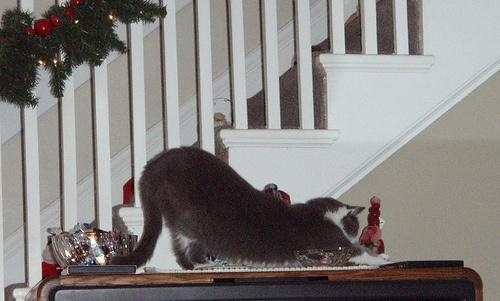cat: (103, 147, 393, 272)
